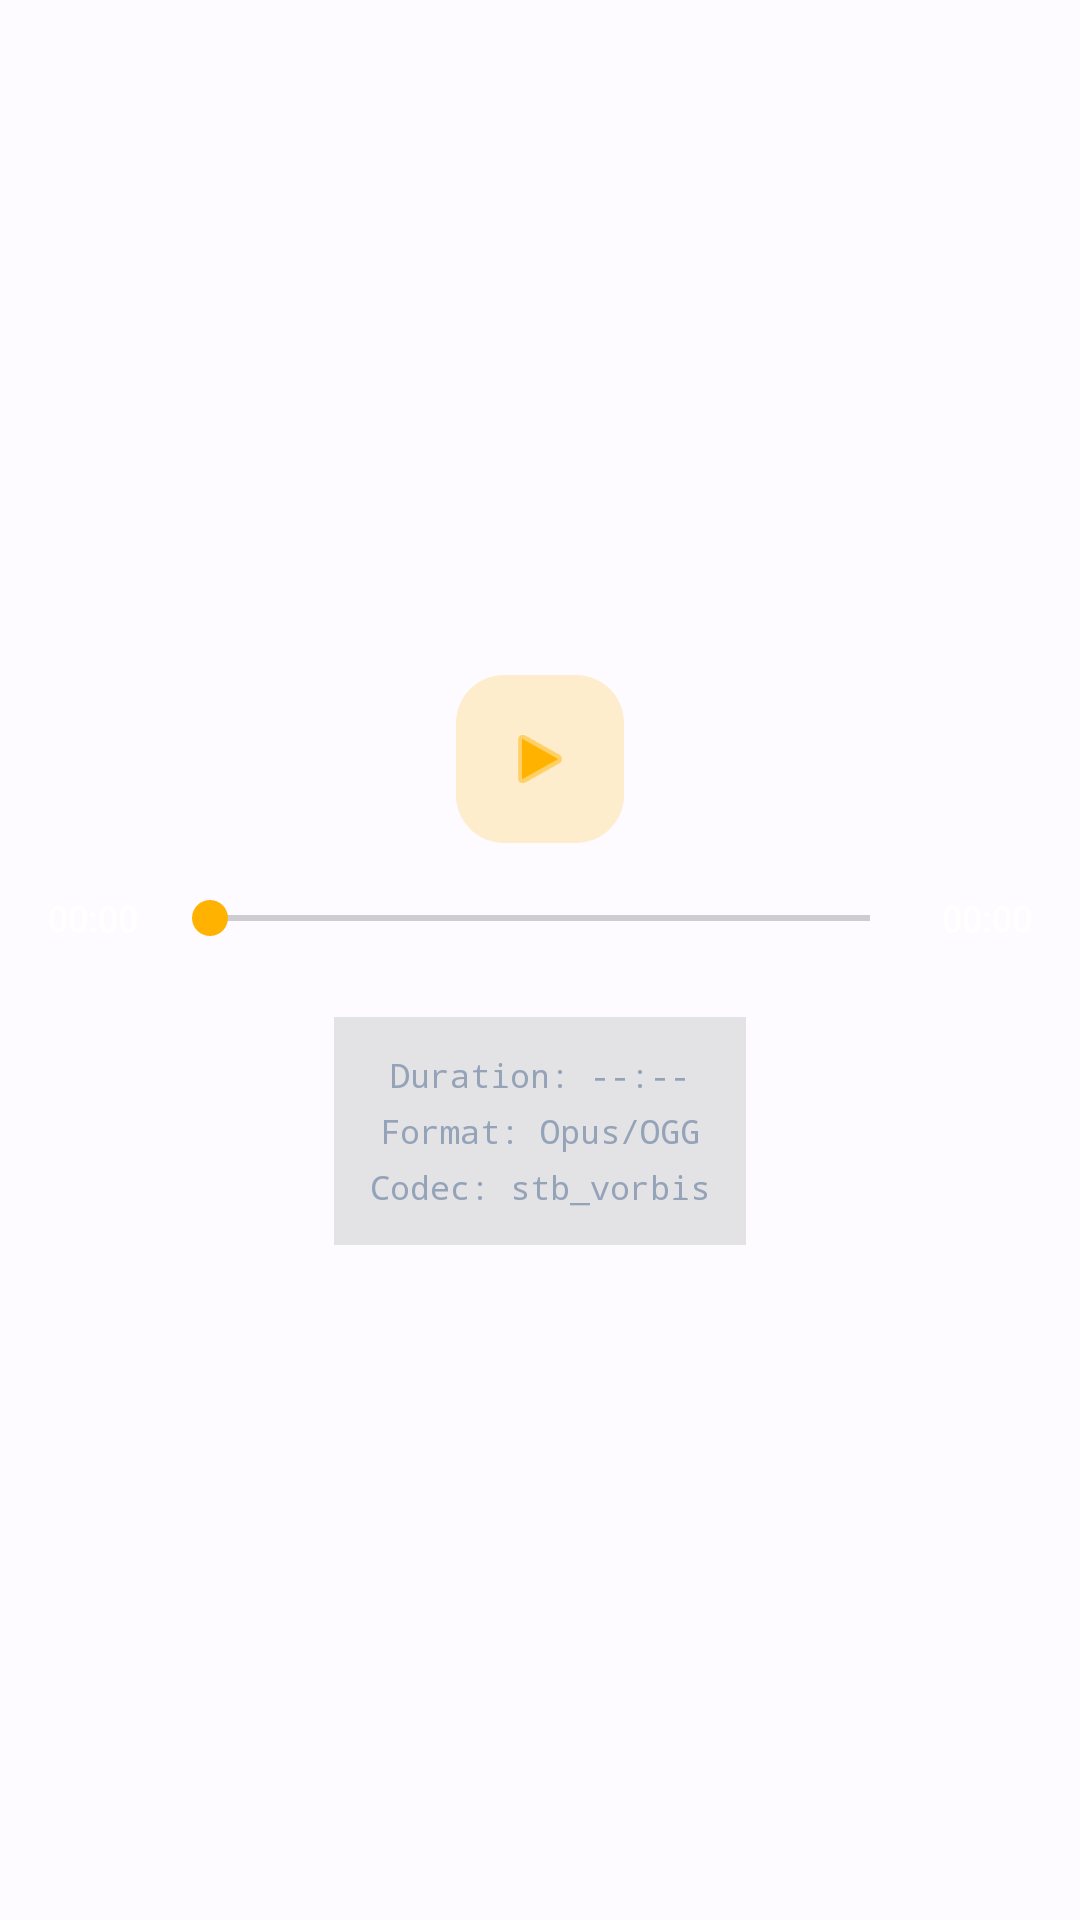

Screen size 1080px×1920px. Icon name, then its center in pixels as point (x, y):
play: point (540, 759)
